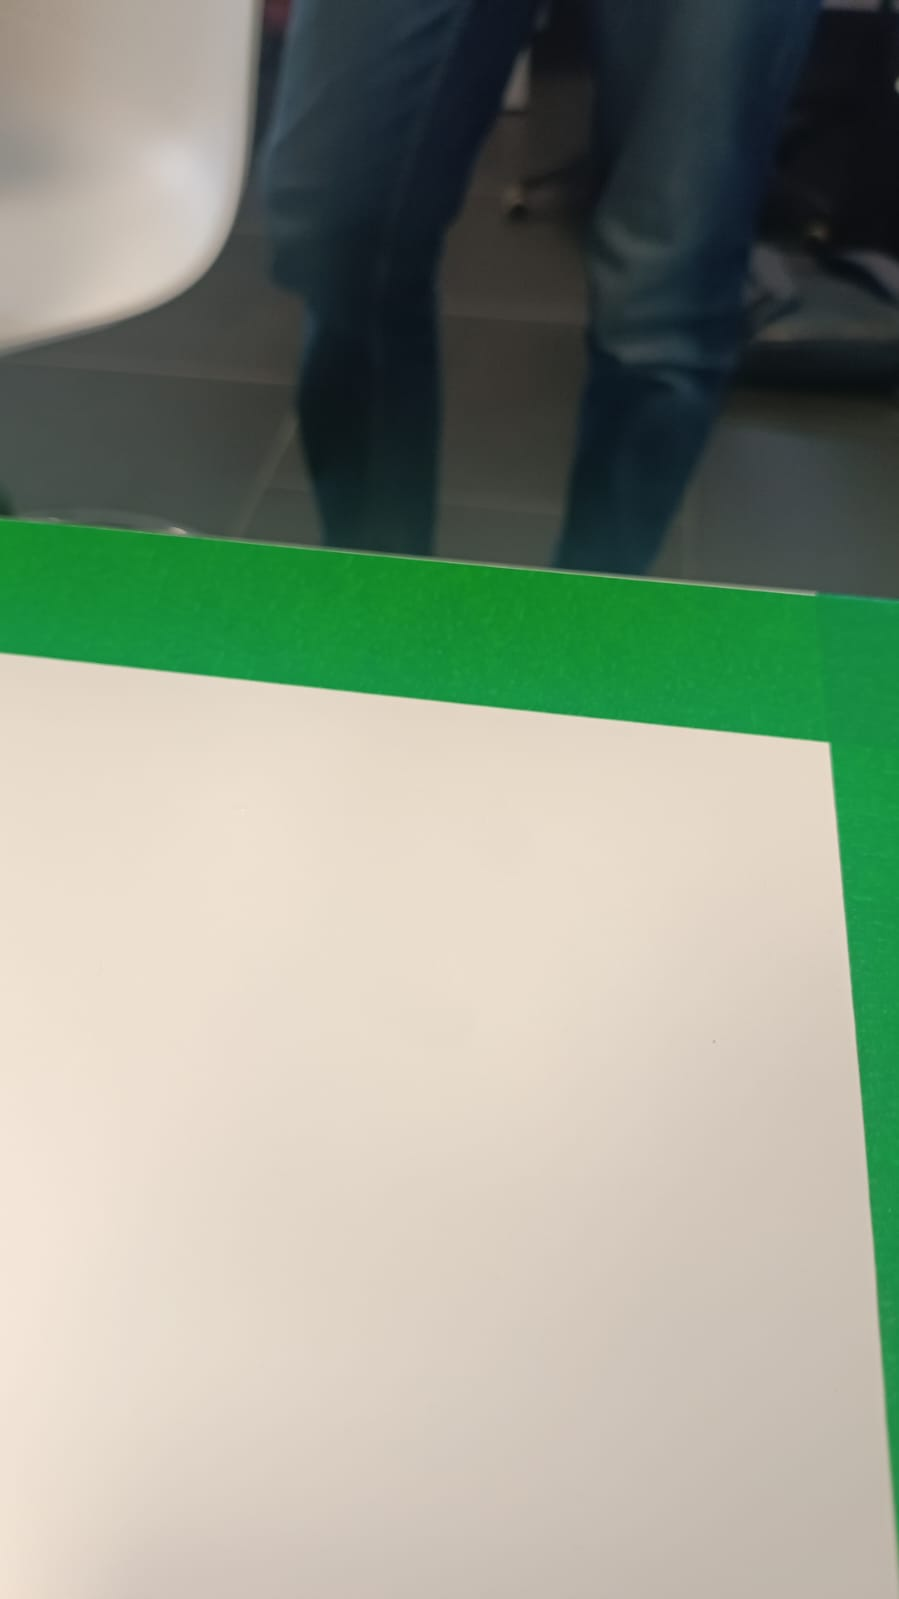linea_cerca: (2, 518, 899, 1599)
